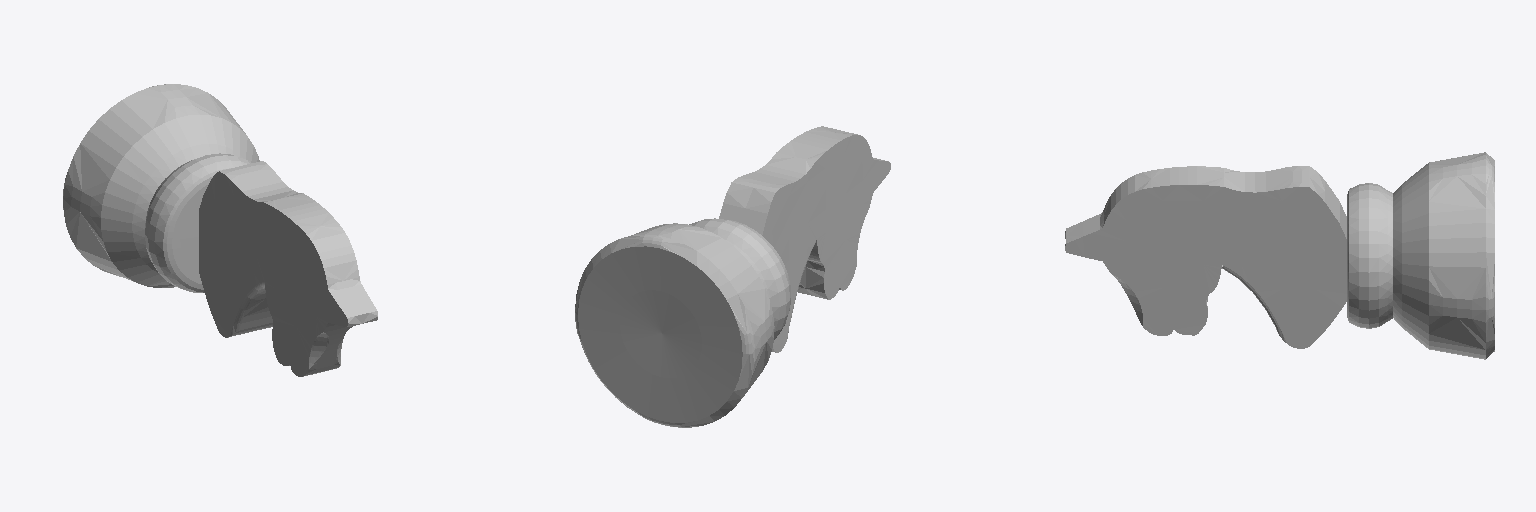
Rendered from whiteKnight.obj.
3 renders of one model, left to right at view 1: azimuth 30°, elevation 25°; view 2: azimuth 150°, elevation 25°; view 3: azimuth 270°, elevation 25°, orthographic.
Parts seen in each view (by area): view 1: Obj_000101, Obj_000100; view 2: Obj_000101, Obj_000100; view 3: Obj_000100, Obj_000101.
Boxes of the visible parts, x1=… form: Obj_000101: x1=63, y1=84, x2=259, y2=292; Obj_000100: x1=199, y1=161, x2=377, y2=376; Obj_000101: x1=575, y1=218, x2=790, y2=427; Obj_000100: x1=719, y1=126, x2=890, y2=352; Obj_000100: x1=1065, y1=166, x2=1346, y2=348; Obj_000101: x1=1347, y1=152, x2=1494, y2=359.
Bounding box in the file's own units: 0.014 × 0.014 × 0.0291.